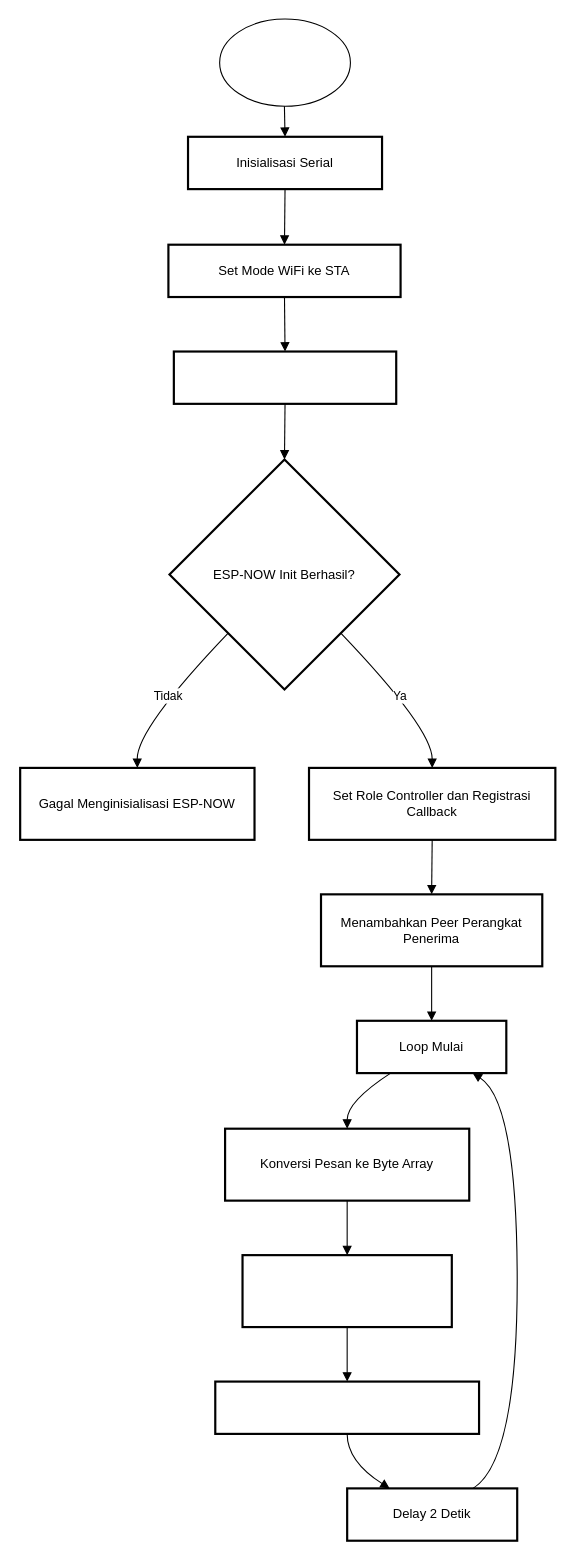
Some shapes in this 574 by 1561 pixel diagram are drawn without their labels. Each missing label, with the centre of its shape:
Inisialisasi ESP-NOW: the point at 284,377
Kirim Data dengan esp_now_send: the point at 346,1291
setup awal: the point at 284,62
Tampilkan Pesan Terkirim: the point at 347,1407
